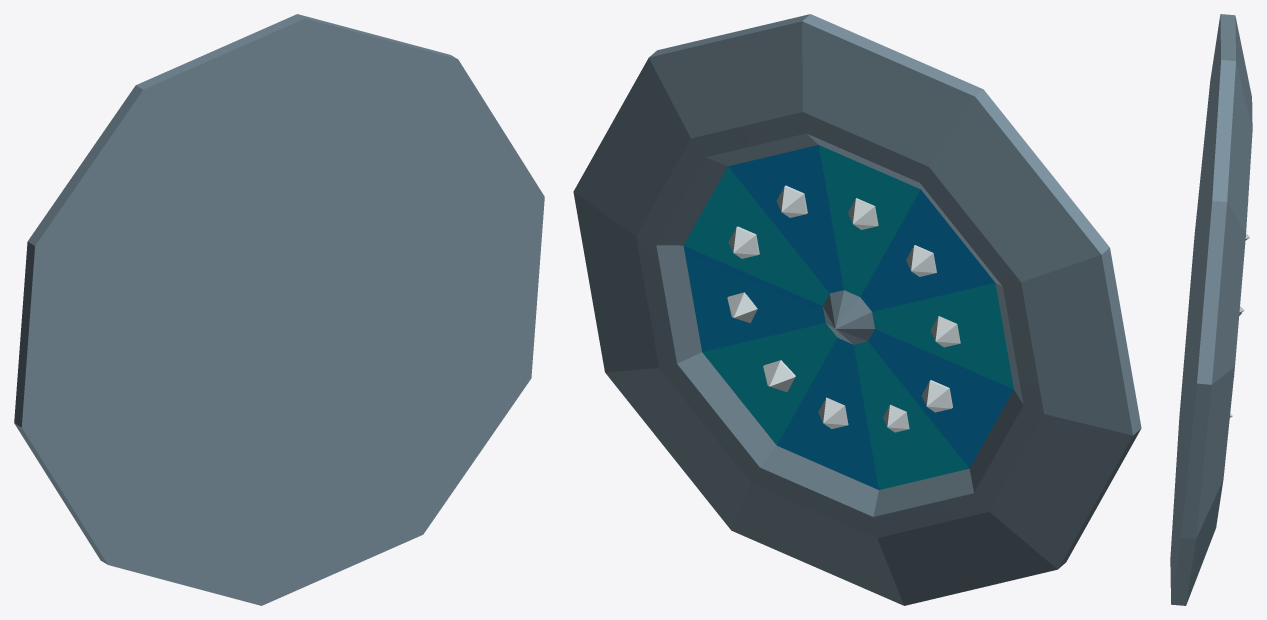
File: shield-by-don-carson-v882c0Gebj.glb
The picture shows the model from 3 angles, left to right: view 1: azimuth 30°, elevation 25°; view 2: azimuth 150°, elevation 25°; view 3: azimuth 270°, elevation 25°; orthographic projection. The views are drawn at different scales.
Parts seen in each view (by area): view 1: shield; view 2: shield; view 3: shield.
Part boxes in pixels (left/top/right/bottom): shield: left=14, top=14, right=544, bottom=605; shield: left=573, top=14, right=1141, bottom=605; shield: left=1170, top=14, right=1252, bottom=605.
Bounding box in the file's own units: 0.7278 × 0.7326 × 0.1025.
